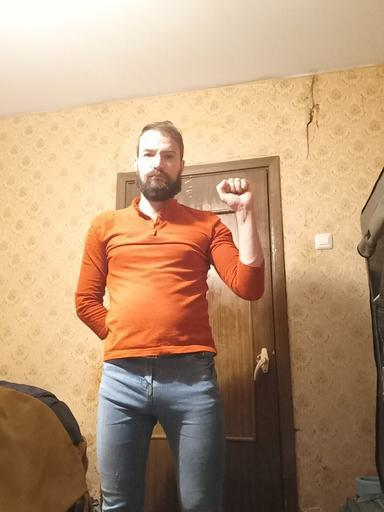fist: (215, 176, 256, 212)
